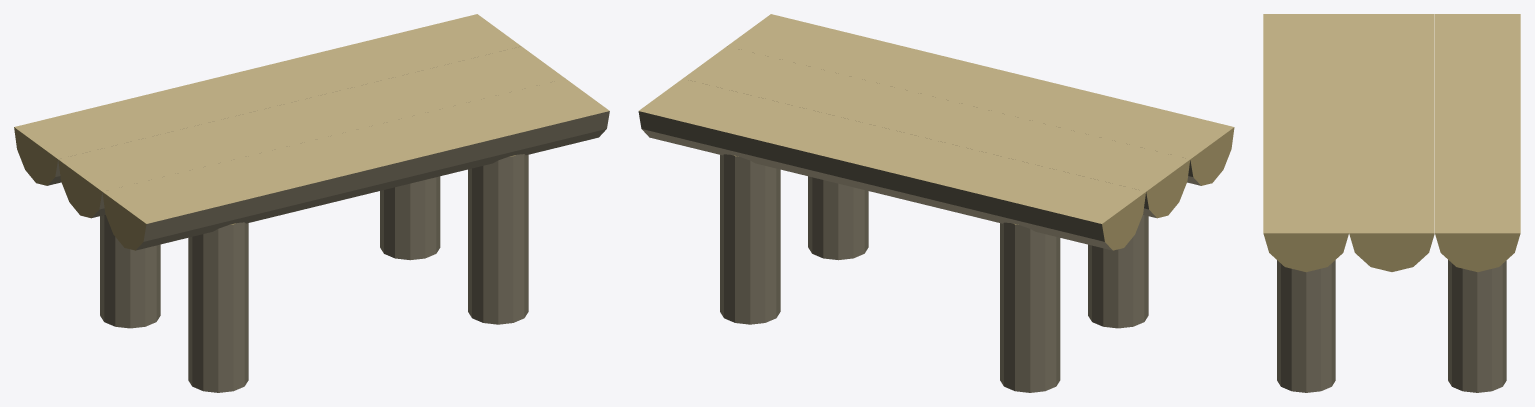
Rendered from Table.fbx.
3 renders of one model, left to right at view 1: azimuth 30°, elevation 25°; view 2: azimuth 150°, elevation 25°; view 3: azimuth 270°, elevation 25°, orthographic. The views are drawn at different scales.
Parts seen in each view (by area): view 1: TableTop1, TableTop3, TableTop2, TableLeg1, TableLeg3, TableLeg4, TableLeg2; view 2: TableTop3, TableTop2, TableTop1, TableLeg2, TableLeg4, TableLeg3, TableLeg1; view 3: TableTop2, TableTop1, TableTop3, TableLeg1, TableLeg2.
Part boxes in pixels (box(x1,y1,x2,y2)): TableTop1: box(102, 78, 609, 250); TableTop3: box(14, 14, 520, 185); TableTop2: box(58, 46, 565, 218); TableLeg1: box(468, 154, 528, 324); TableLeg3: box(188, 222, 248, 392); TableLeg4: box(100, 215, 160, 328); TableLeg2: box(380, 176, 440, 260); TableTop3: box(638, 78, 1145, 250); TableTop2: box(683, 46, 1190, 218); TableTop1: box(727, 14, 1234, 185); TableLeg2: box(720, 154, 780, 324); TableLeg4: box(1000, 222, 1060, 392); TableLeg3: box(1088, 215, 1148, 328); TableLeg1: box(808, 176, 868, 260); TableTop2: box(1349, 14, 1434, 271); TableTop1: box(1263, 14, 1348, 272); TableTop3: box(1435, 14, 1520, 272); TableLeg1: box(1277, 260, 1335, 392); TableLeg2: box(1448, 260, 1506, 392).
Size of the model in its own units: 1.99 by 0.8006 by 0.9845.
